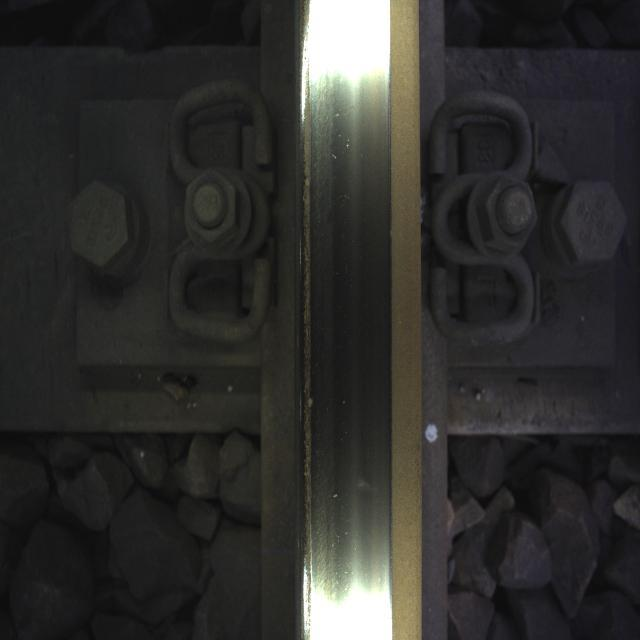normal: (291, 33, 366, 640)
